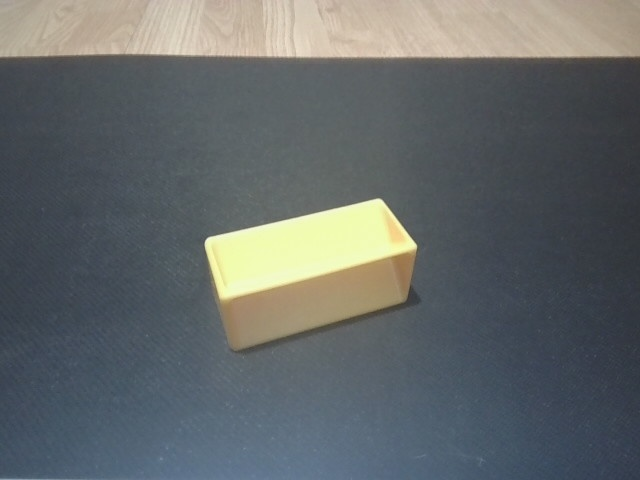YellowSample: (203, 196, 418, 353)
